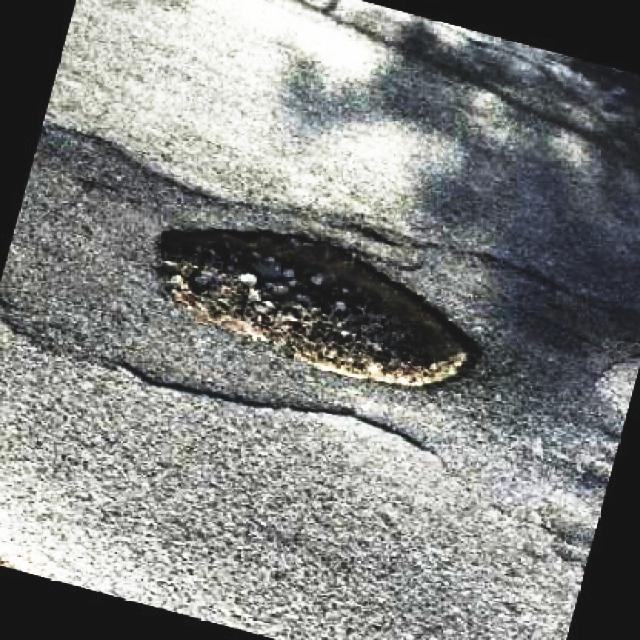pothole: (152, 222, 478, 389)
